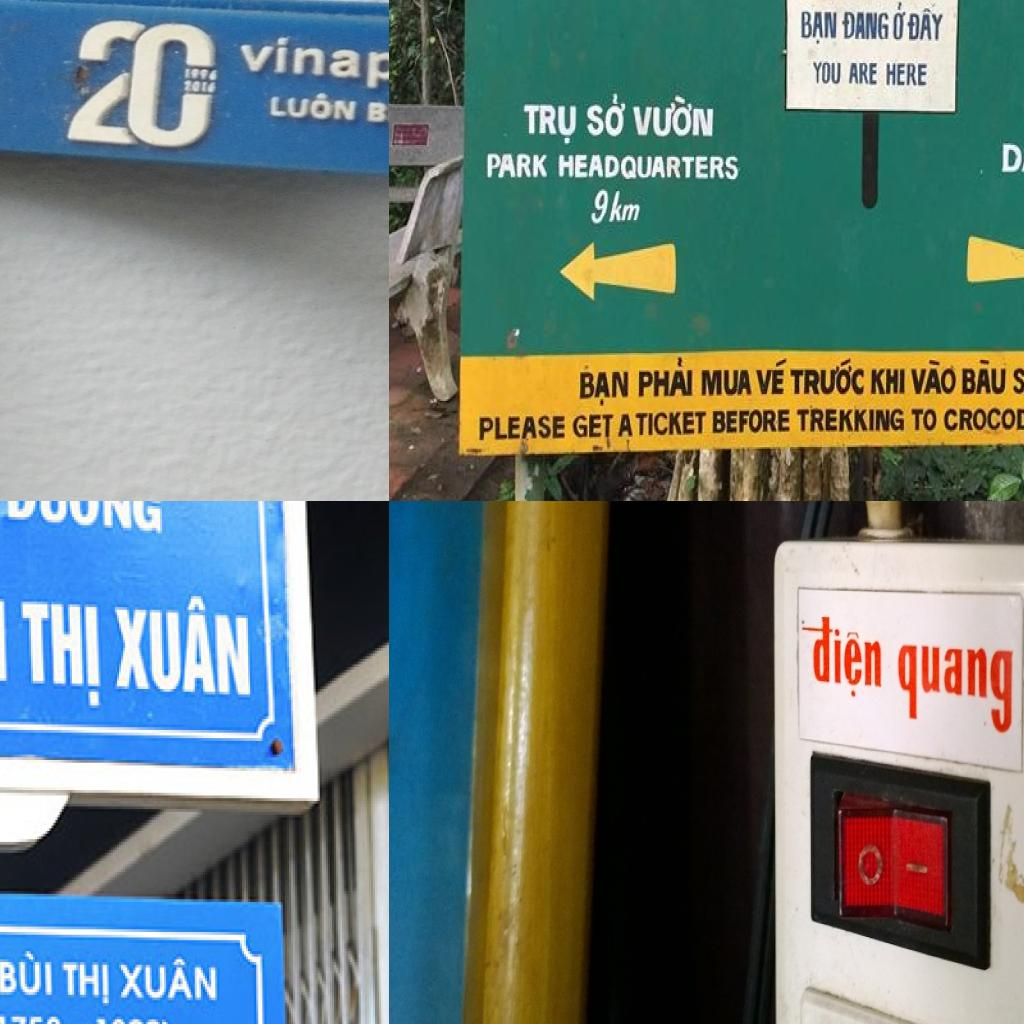text: (62, 18, 222, 154), (113, 596, 256, 708), (14, 596, 104, 714), (234, 35, 389, 99), (795, 606, 888, 707), (0, 501, 166, 538), (556, 152, 741, 184), (115, 959, 219, 1003), (630, 94, 716, 142), (789, 353, 867, 399), (795, 406, 907, 435), (0, 945, 55, 1000), (270, 90, 360, 122), (60, 960, 115, 1012), (636, 355, 696, 401), (586, 186, 648, 230), (521, 100, 579, 146), (710, 406, 792, 437), (584, 88, 630, 142), (942, 406, 1024, 435), (634, 410, 709, 440), (484, 150, 551, 183), (579, 368, 631, 410), (908, 358, 959, 399), (960, 358, 1009, 399), (700, 367, 756, 399), (841, 8, 891, 42), (799, 8, 840, 48), (753, 355, 790, 397), (906, 5, 945, 44), (570, 411, 618, 442), (884, 61, 930, 89), (869, 365, 908, 398), (998, 139, 1024, 177), (812, 58, 844, 87), (848, 60, 880, 88), (910, 406, 940, 435), (92, 1014, 178, 1024), (0, 1011, 66, 1024), (367, 93, 389, 129), (892, 0, 907, 42), (1011, 354, 1024, 399), (616, 411, 636, 440), (182, 68, 219, 82)
